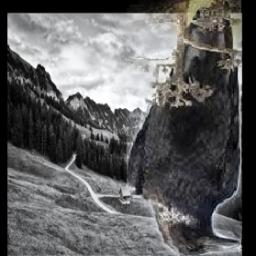Crow: (128, 0, 242, 255)
